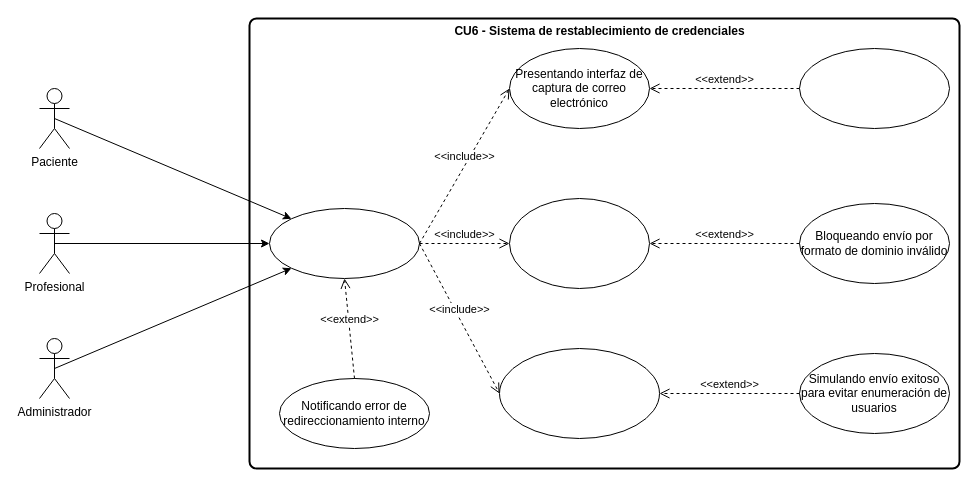
The diagram is 977 pixels wide and 486 high, and some of its shapes have lost their labels. Here are the shapes that lost their labels. From the top down, the box of each, then its label:
(798, 48, 950, 128): Alertando tiempo de espera agotado en la aplicación
(268, 208, 420, 278): Accediendo a opción de recuperación de contraseña
(508, 198, 650, 288): Ingresando dirección de correo electrónico registrada
(498, 348, 660, 438): Buscando usuario y enviando código OTP con vigencia de 10 minutos
